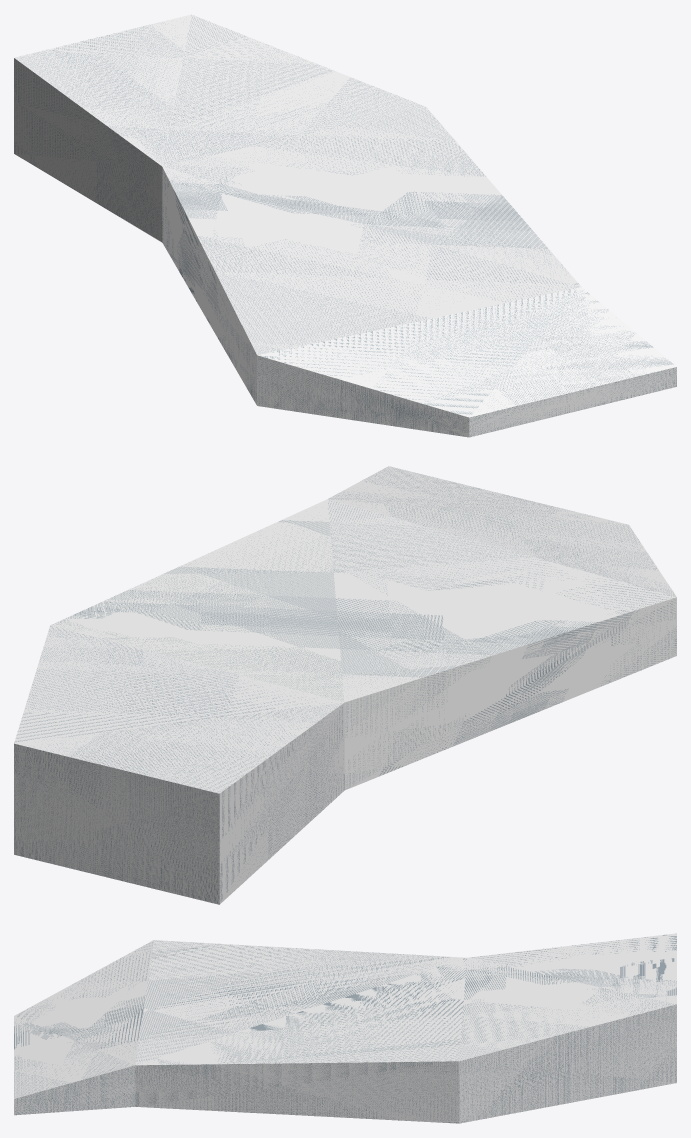
The model's file is ScenarioBaseEditorRAMP.dae.
The picture shows the model from 3 angles, top to bottom: view 1: azimuth 30°, elevation 25°; view 2: azimuth 150°, elevation 25°; view 3: azimuth 270°, elevation 25°; orthographic projection. The views are drawn at different scales.
Parts seen in each view (by area): view 1: SketchUp; view 2: SketchUp; view 3: SketchUp.
Boxes of the visible parts, x1=… form: SketchUp: x1=14, y1=14, x2=676, y2=437; SketchUp: x1=14, y1=466, x2=676, y2=904; SketchUp: x1=14, y1=933, x2=676, y2=1123.
Bounding box in the file's own units: 40.41 × 79.69 × 10.43.
